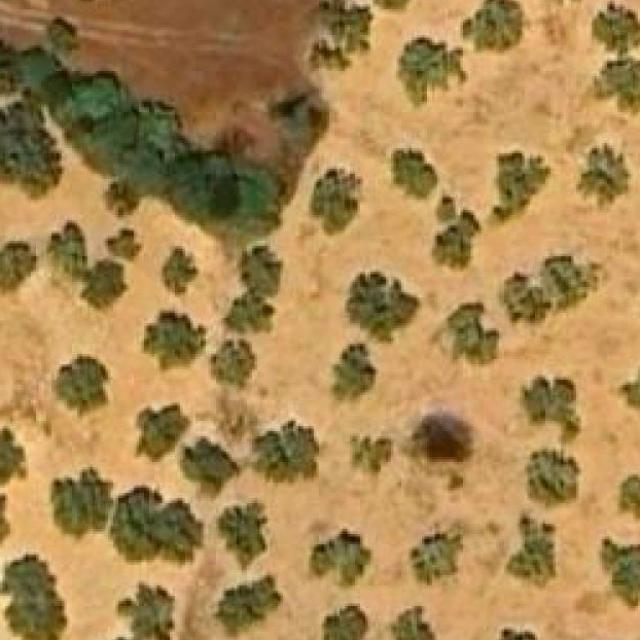Tree: (108, 485, 204, 565), (499, 256, 602, 326), (3, 554, 68, 640), (591, 1, 640, 112), (348, 272, 420, 342), (399, 35, 466, 110), (50, 467, 114, 542), (0, 112, 60, 189), (489, 152, 550, 226), (142, 308, 207, 372), (432, 189, 482, 272), (506, 508, 556, 589), (255, 421, 320, 482), (216, 501, 271, 573), (410, 522, 471, 586), (460, 0, 530, 54), (312, 166, 366, 236), (55, 352, 111, 419), (180, 436, 240, 498), (525, 446, 581, 512), (219, 575, 281, 632), (115, 582, 174, 640), (576, 143, 631, 205), (134, 402, 190, 462), (311, 529, 370, 585), (448, 303, 499, 364), (412, 416, 471, 465), (388, 146, 437, 201), (523, 377, 577, 426), (160, 244, 203, 305), (602, 539, 640, 606), (332, 344, 377, 400), (239, 243, 287, 290), (211, 342, 257, 388), (77, 66, 125, 110), (80, 261, 124, 308), (226, 292, 275, 334), (0, 244, 39, 295), (49, 223, 92, 269), (391, 601, 440, 640), (0, 426, 29, 488), (338, 10, 382, 50), (350, 434, 391, 476), (323, 603, 367, 640), (46, 14, 82, 58), (619, 476, 640, 520), (622, 364, 640, 415), (374, 0, 416, 19), (0, 484, 12, 543), (486, 628, 543, 640)
